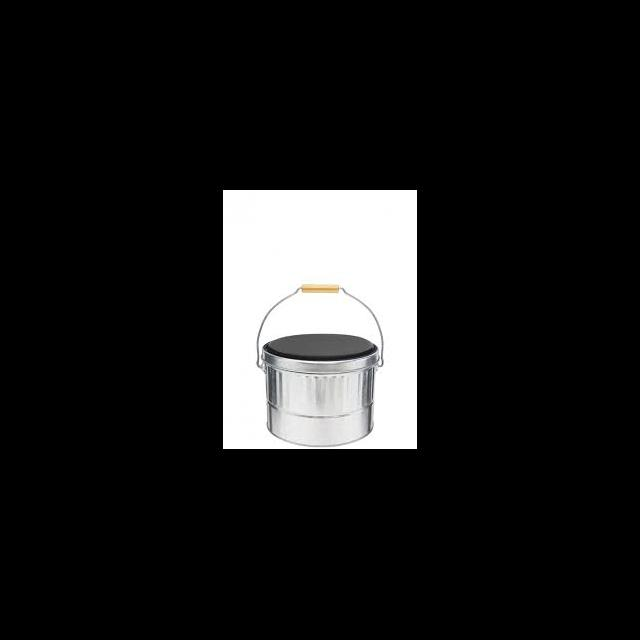metal: (256, 286, 383, 448)
